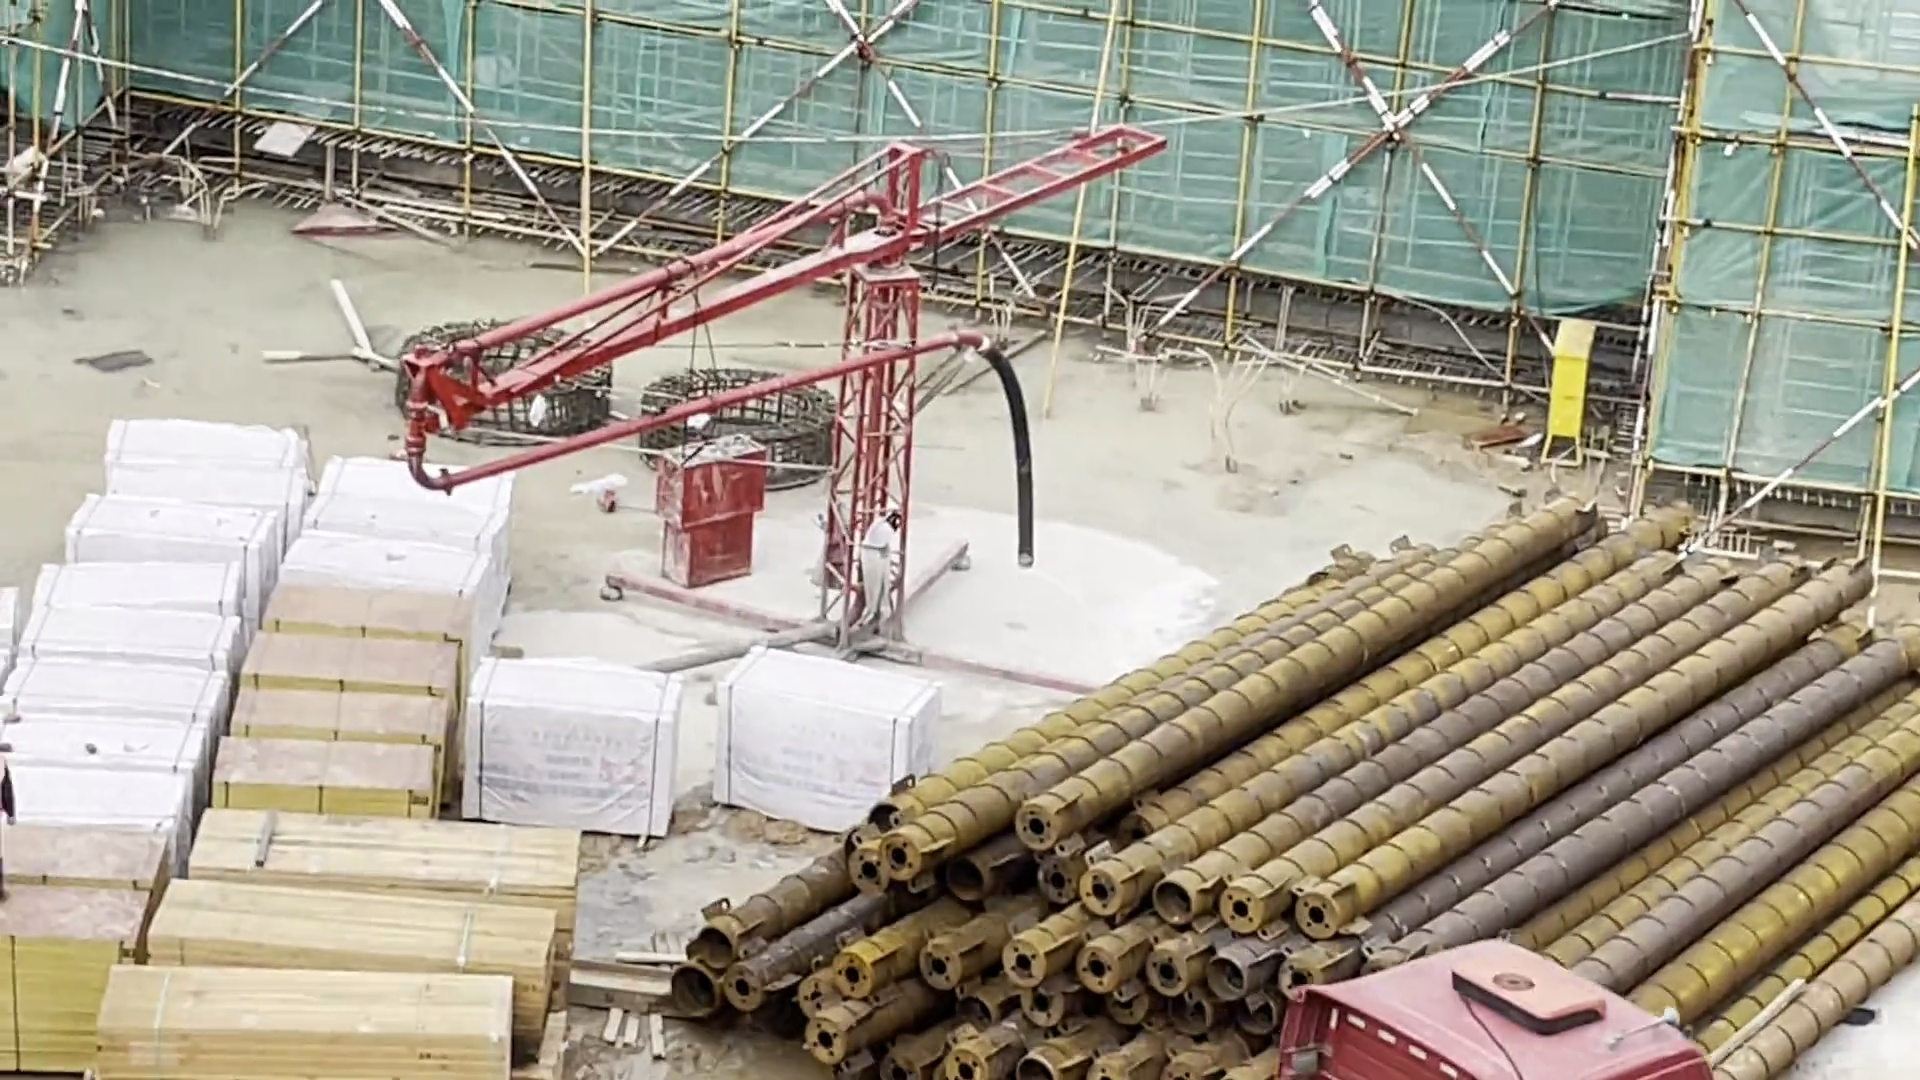ebox: (1549, 313, 1596, 469)
wood: (104, 804, 582, 1080)
